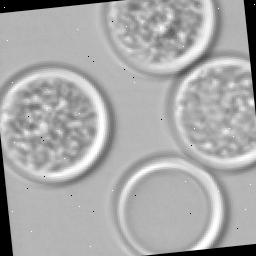picoshell: (0, 65, 113, 188), (105, 154, 230, 256), (165, 53, 256, 174), (100, 0, 218, 78)
